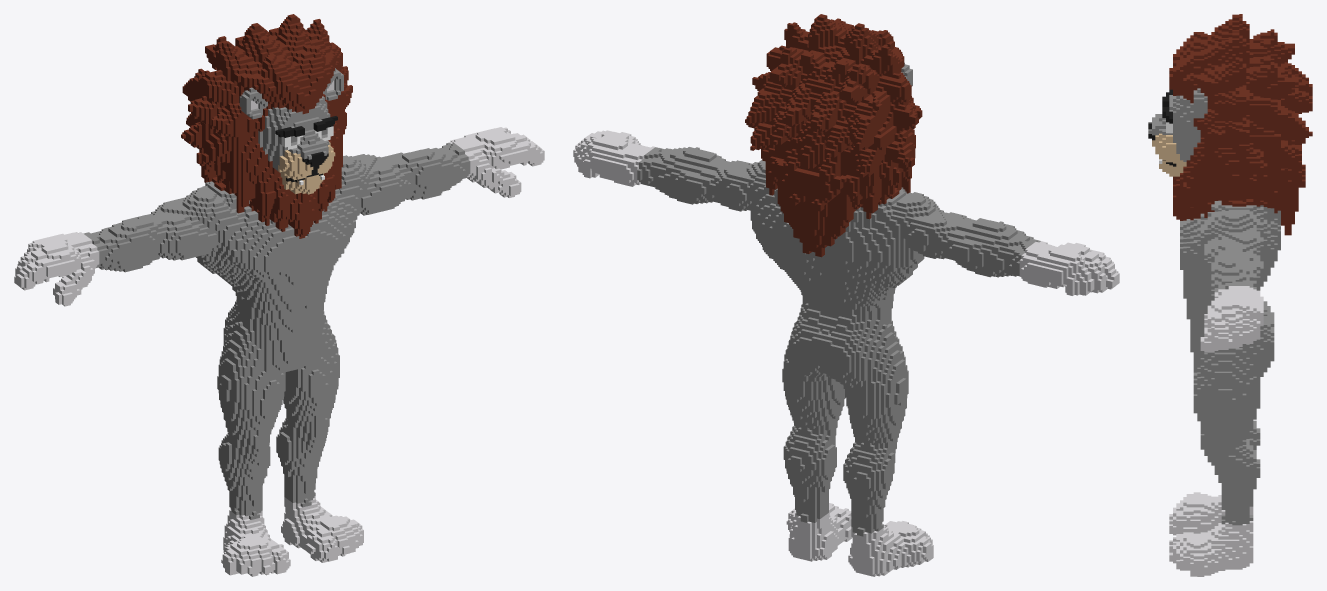
Rendered from 528-BcAz7gVL.glb.
The picture shows the model from 3 angles, left to right: view 1: azimuth 30°, elevation 25°; view 2: azimuth 150°, elevation 25°; view 3: azimuth 270°, elevation 25°; orthographic projection. The views are drawn at different scales.
Parts seen in each view (by area): view 1: standard; view 2: standard; view 3: standard.
Part boxes in pixels (x1,y1,x2,y2): standard: (14, 14, 544, 576); standard: (573, 14, 1119, 576); standard: (1148, 14, 1312, 576).
Size of the model in its own units: 17.2 by 16.5 by 4.7.
4 materials, 4 textured.
